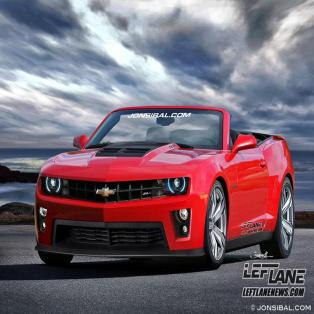Auto: (31, 103, 297, 271)
